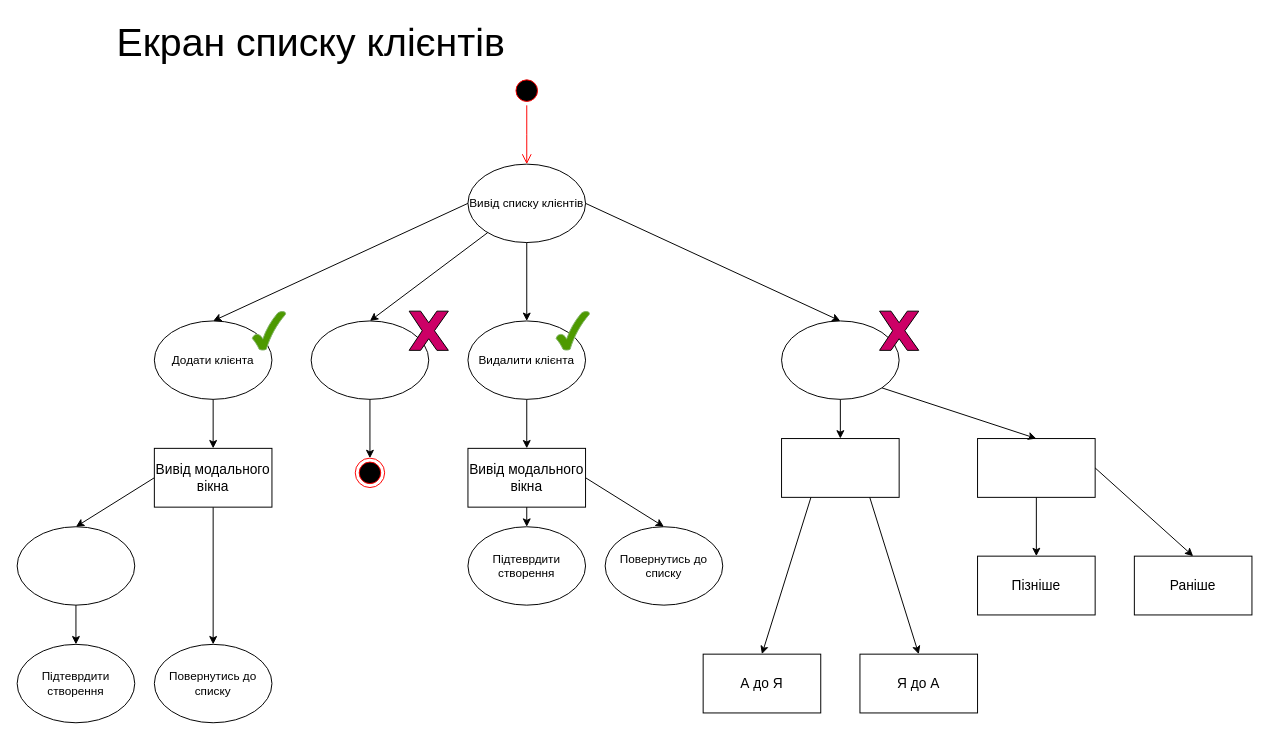
Some shapes in this 1269 by 740 pixel diagram are drawn without their labels. Each missing label, with the box of its shape:
Алфавітом: (781, 438, 899, 497)
Ввести ім'я клієнта: (16, 526, 135, 605)
Датою створення запису: (977, 438, 1095, 497)
Повернутися на попередній екран: (310, 320, 429, 399)
Сортувати список за: (781, 320, 899, 399)
